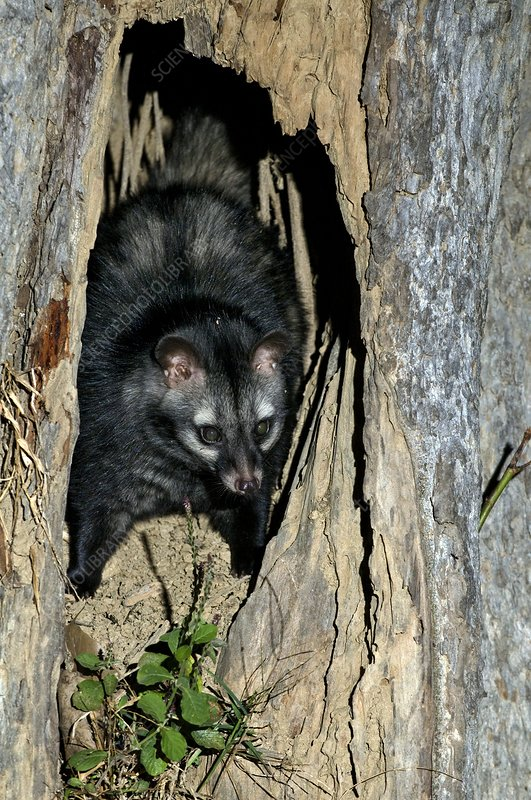Civet: (55, 156, 322, 602)
